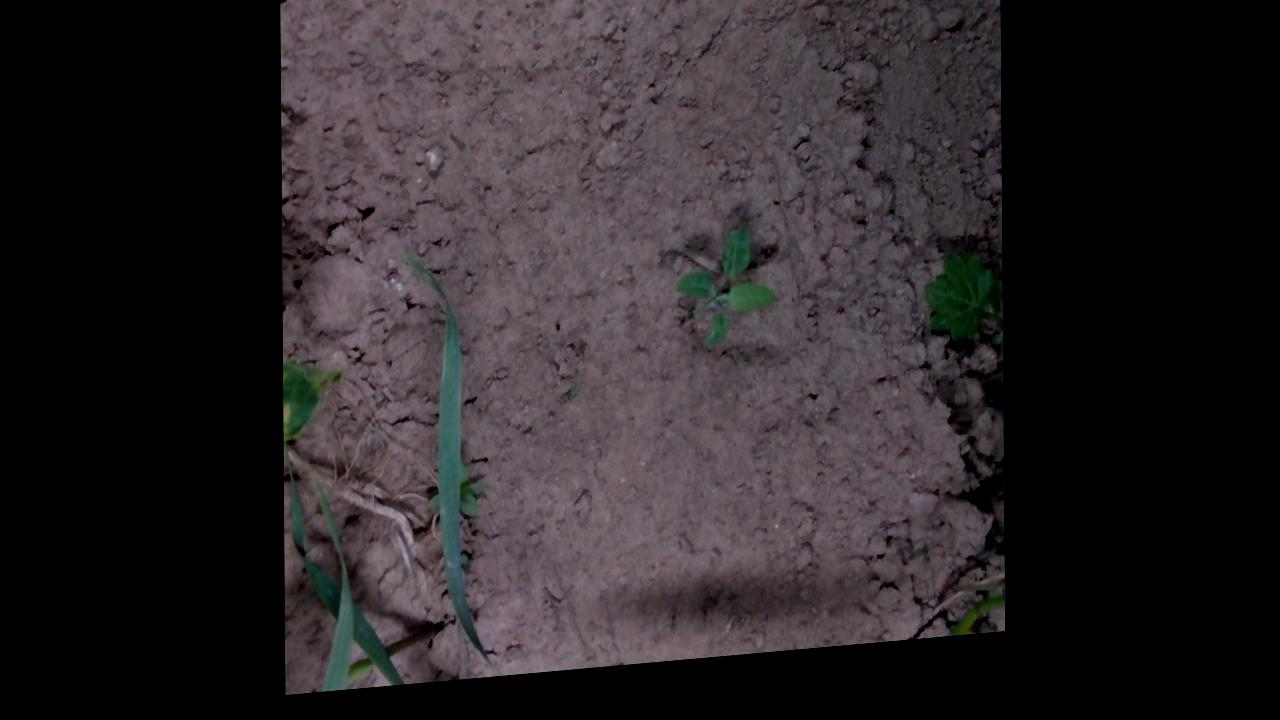weed: (667, 240, 782, 365)
